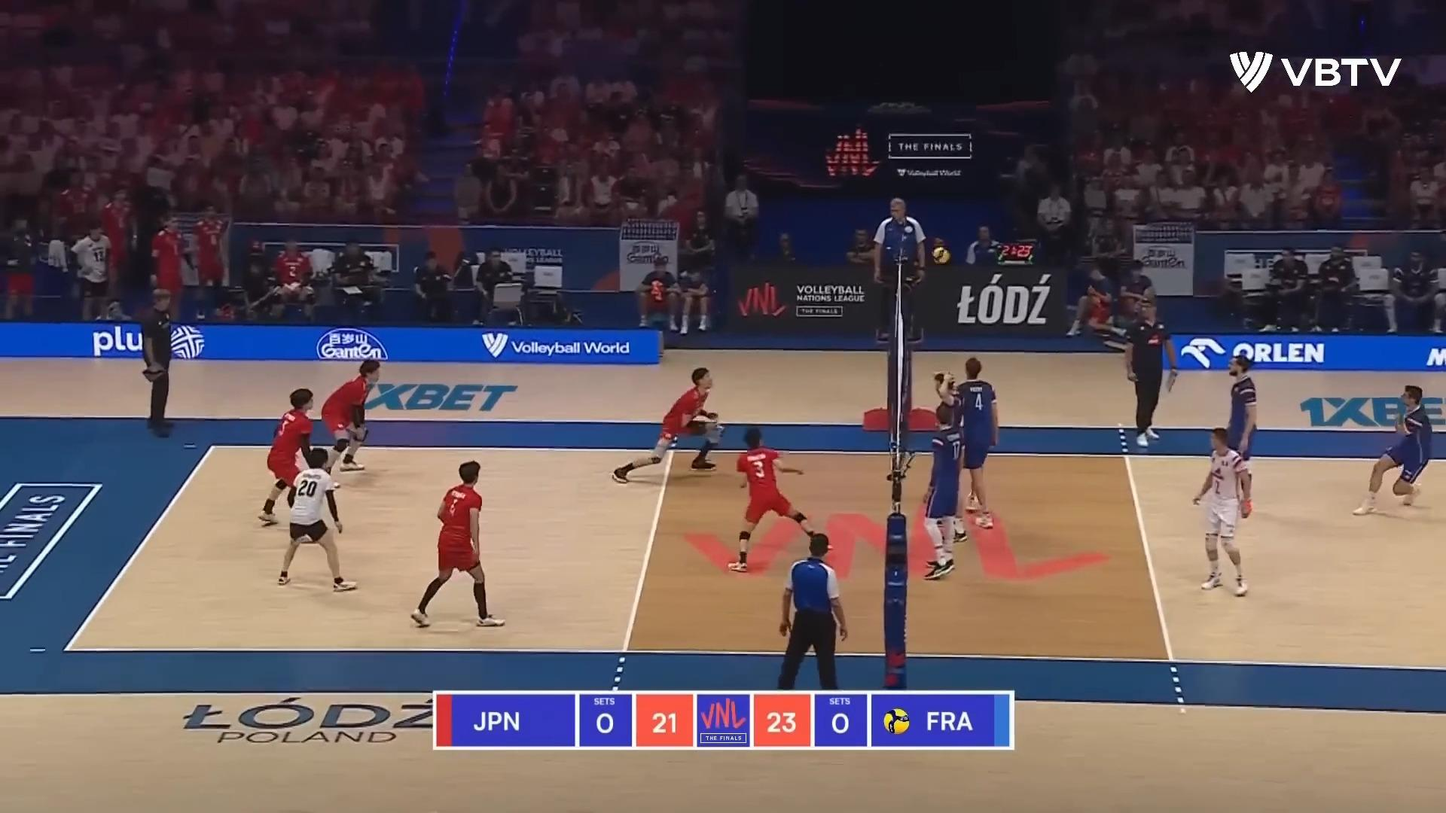ball: (932, 246, 951, 264)
